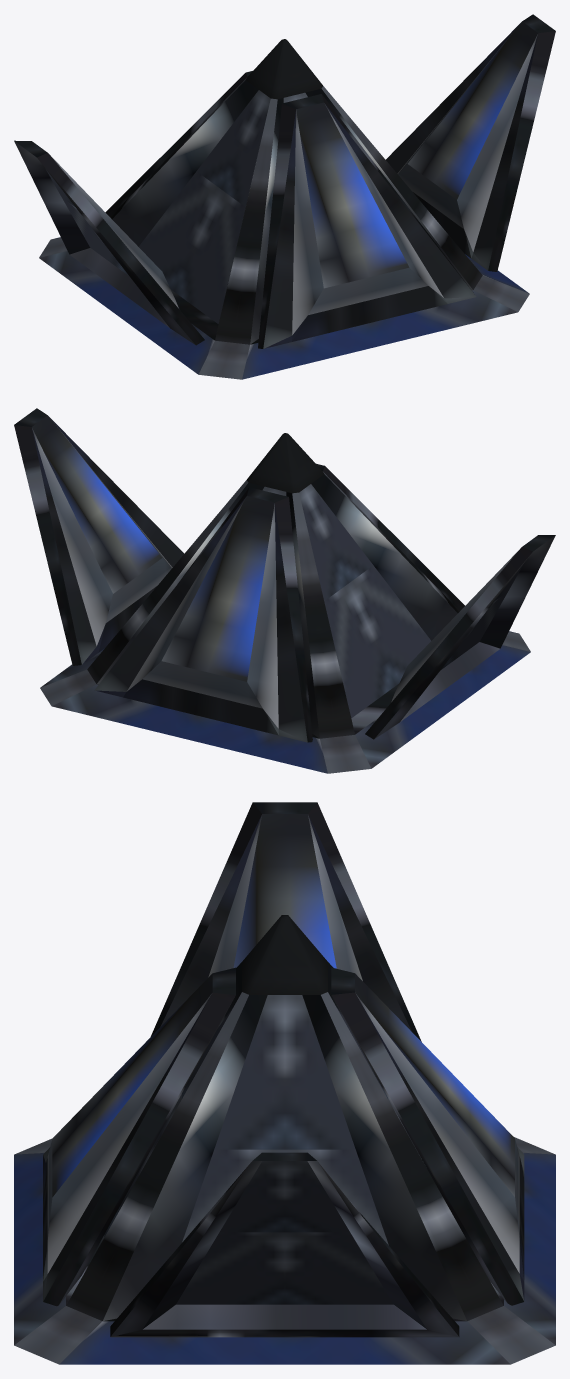
File: armsolar_blue.glb
3 renders of one model, top to bottom at view 1: azimuth 30°, elevation 25°; view 2: azimuth 150°, elevation 25°; view 3: azimuth 270°, elevation 25°, orthographic. The views are drawn at different scales.
Visible parts, largest first — view 1: base, dish3, dish4, dish2, dish1; view 2: base, dish1, dish4, dish2, dish3; view 3: base, dish4, dish2, dish1, dish3.
Part boxes in pixels (<box>): base: <box>39,39,529,379</box>; dish3: <box>258,94,476,348</box>; dish4: <box>386,14,555,271</box>; dish2: <box>14,140,204,345</box>; dish1: <box>105,71,252,216</box>; base: <box>40,433,530,773</box>; dish1: <box>94,487,312,742</box>; dish4: <box>14,408,184,665</box>; dish2: <box>365,535,555,739</box>; dish3: <box>316,463,464,610</box>; base: <box>14,915,555,1364</box>; dish4: <box>110,1152,459,1337</box>; dish2: <box>150,802,421,1041</box>; dish1: <box>331,967,524,1305</box>; dish3: <box>43,967,235,1306</box>.
Bounding box in the file's own units: 63.91 × 27.75 × 40.83.
1 material, 1 textured.
